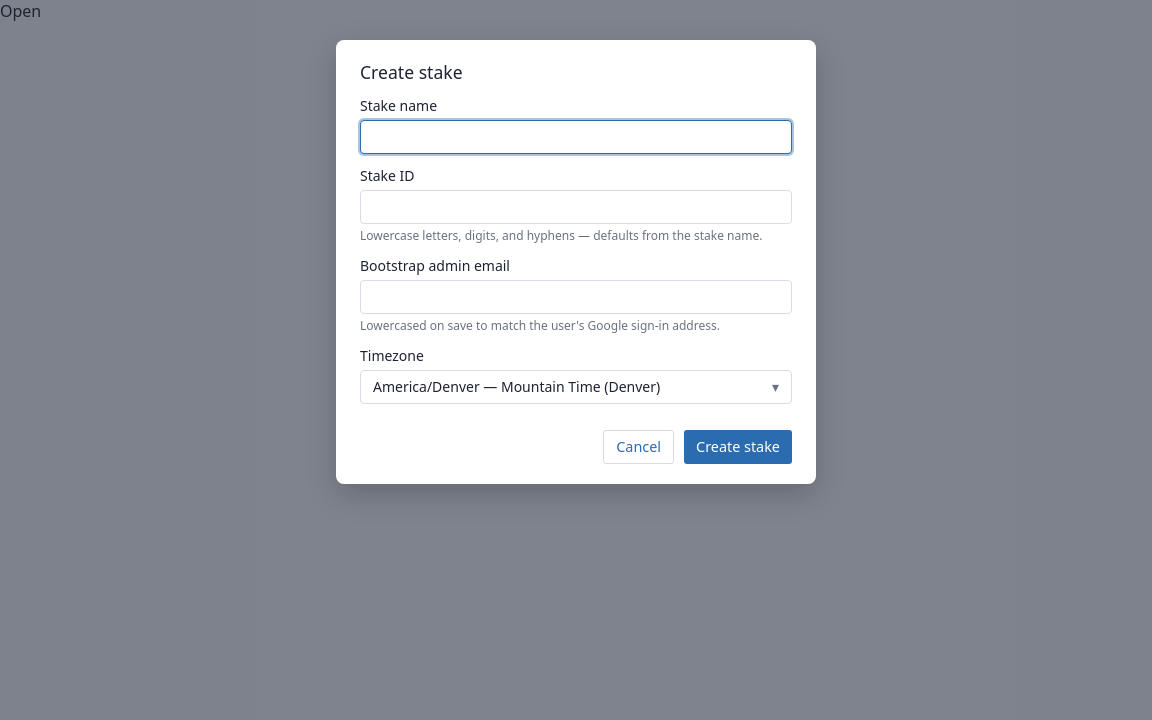
Test: <CreateStakeForm /> › blocks submit when stake_name is empty (zod resolver)
In the field with test id "create-stake-email": (576, 296) [360,280,792,314], type "admin@example.com"
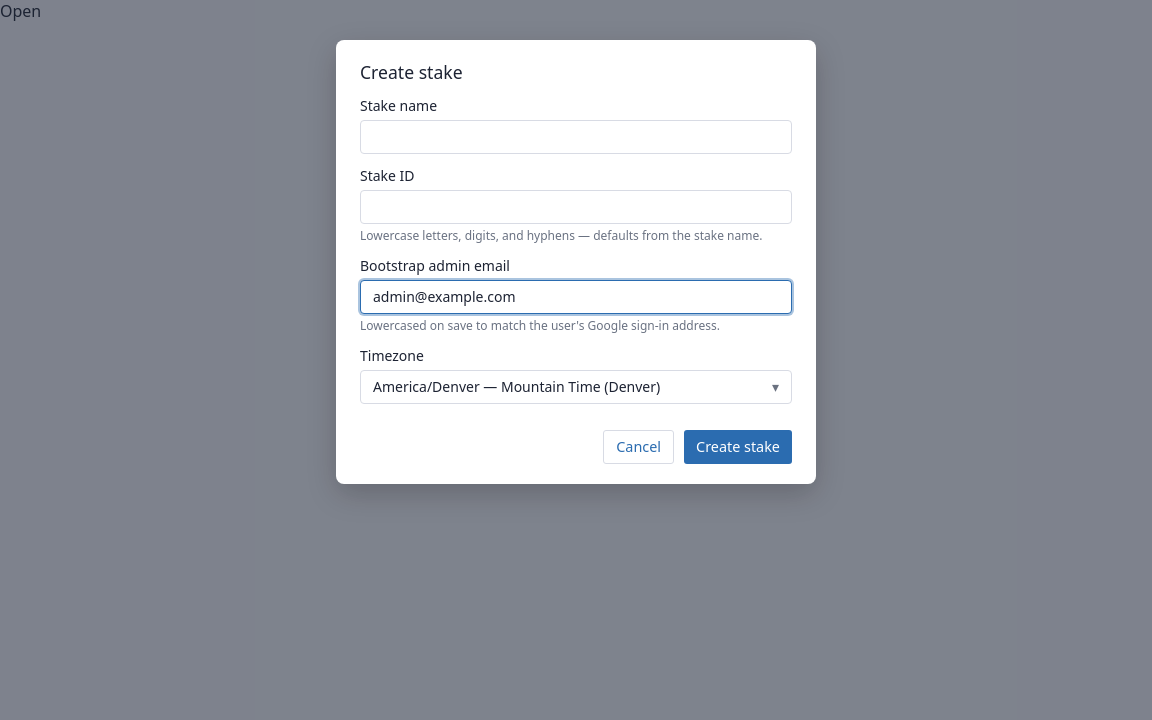
Click the button with test id "create-stake-submit": (738, 447) [684,430,792,464]
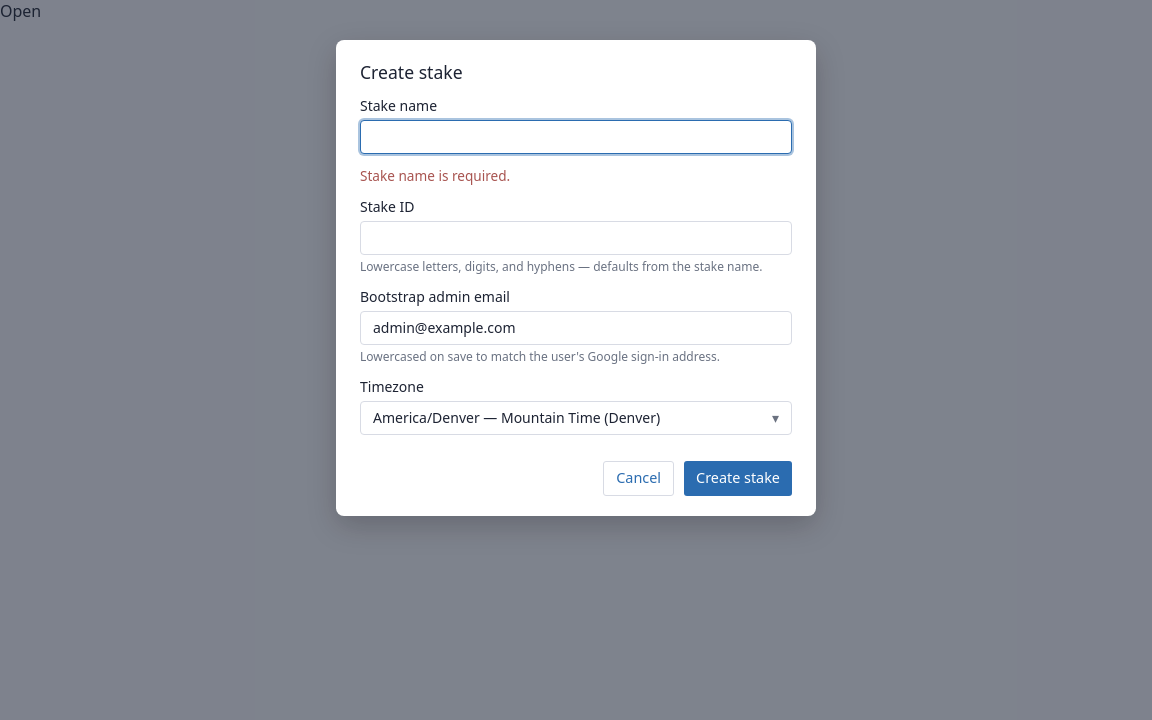
Check: the message with test id "create-stake-name-error" shows "Stake name is required", box [360,166,510,184]
